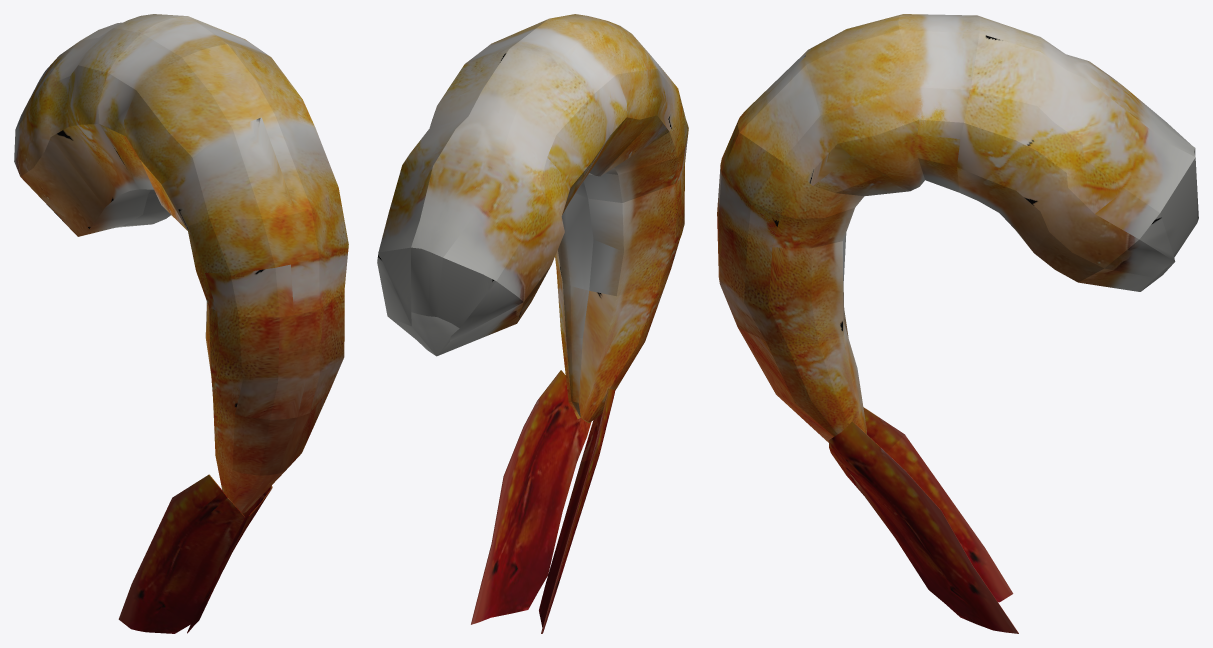
Rendered from Shrimp.fbx.
The picture shows the model from 3 angles, left to right: view 1: azimuth 30°, elevation 25°; view 2: azimuth 150°, elevation 25°; view 3: azimuth 270°, elevation 25°; orthographic projection. The views are drawn at different scales.
Visible parts, largest first — view 1: Shrimp; view 2: Shrimp; view 3: Shrimp.
Boxes of the visible parts, bbox=[...] form: Shrimp: bbox=[14, 14, 348, 633]; Shrimp: bbox=[377, 14, 688, 633]; Shrimp: bbox=[717, 14, 1198, 633].
Size of the model in its own units: 31.67 by 109 by 79.77.
Materials: 1 (1 with a texture image).
